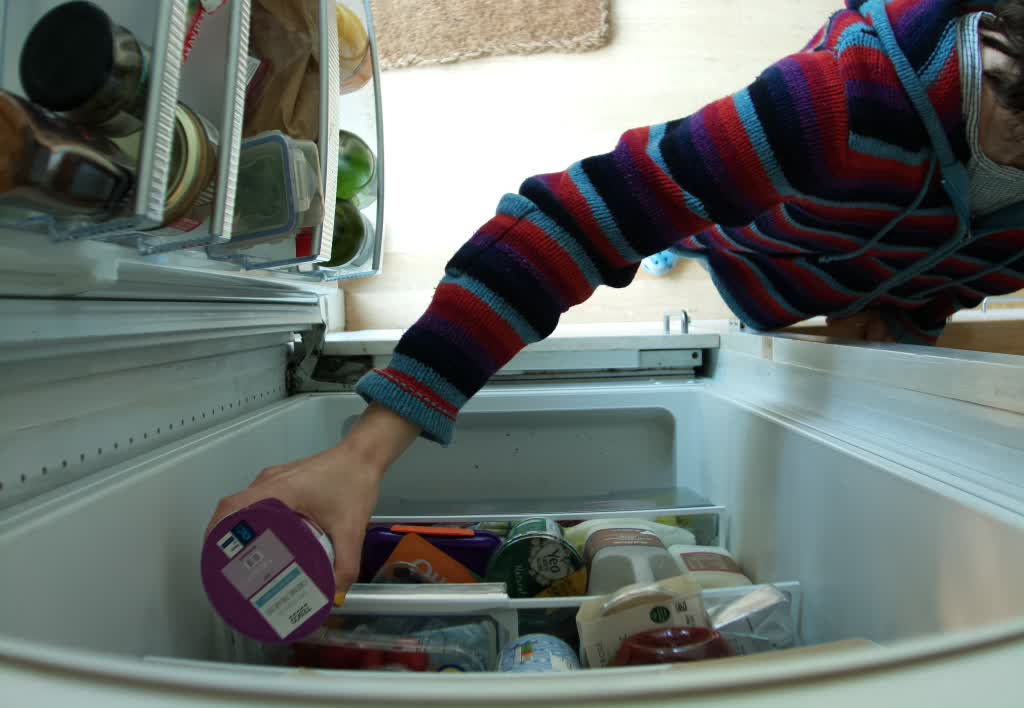cream: (203, 498, 342, 643)
